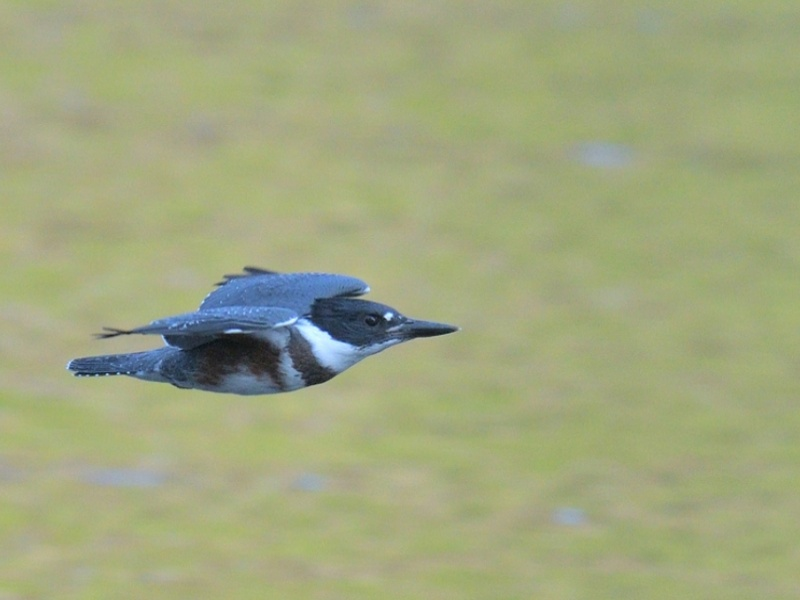kingfisher: (64, 263, 464, 399)
